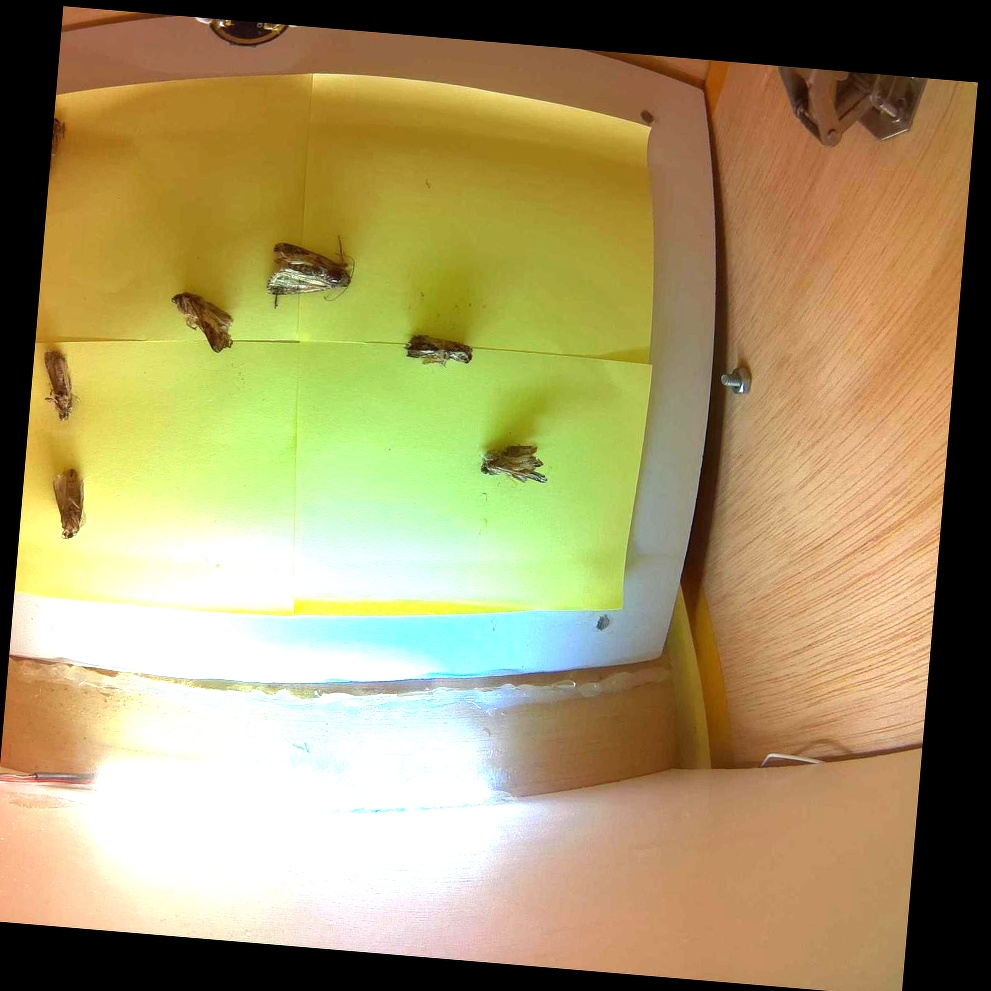Spodoptera litura: (268, 232, 355, 313), (167, 294, 235, 352), (480, 443, 550, 481), (41, 348, 76, 422), (51, 469, 85, 538), (404, 338, 473, 365)
